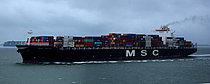Ship: (16, 19, 200, 66)
